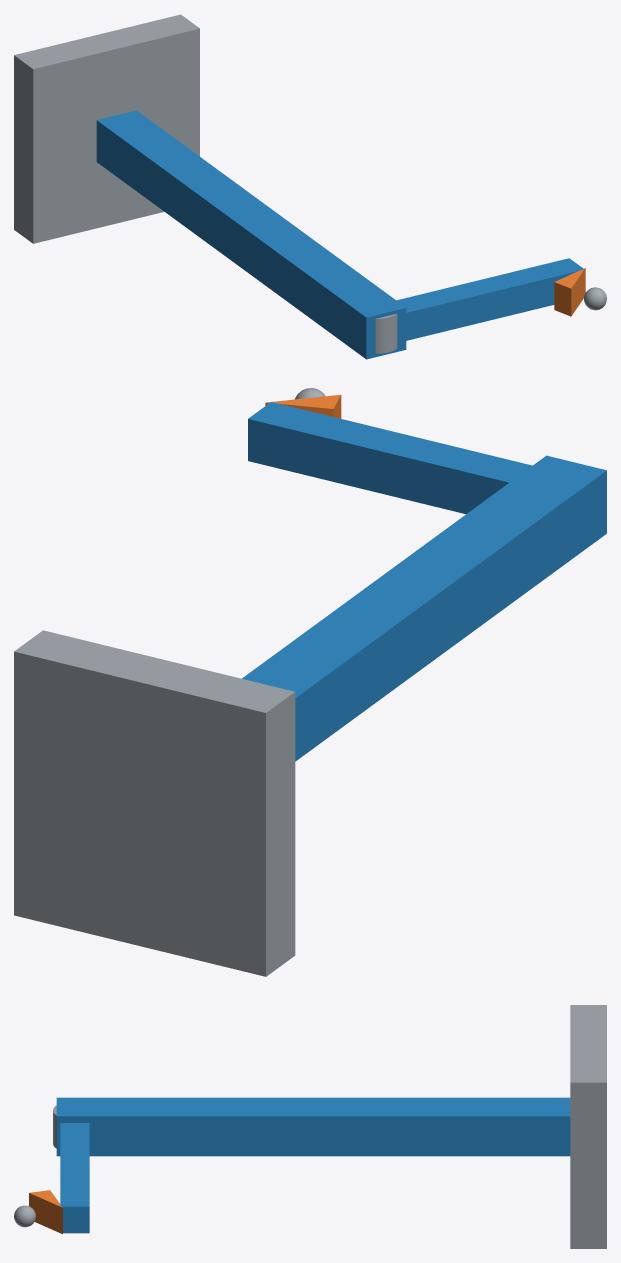
The model's file is lk-lift.glb.
The picture shows the model from 3 angles, top to bottom: view 1: azimuth 30°, elevation 25°; view 2: azimuth 150°, elevation 25°; view 3: azimuth 270°, elevation 25°; orthographic projection. The views are drawn at different scales.
Parts seen in each view (by area): view 1: base_link/visual-0, mast/visual-0, boom/visual-0, sensor/visual-0, boom/visual-1; view 2: base_link/visual-0, mast/visual-0, boom/visual-0, sensor/visual-0; view 3: mast/visual-0, base_link/visual-0, boom/visual-0, sensor/visual-0, sensor/visual-1.
Part boxes in pixels (x1,y1,x2,y2): base_link/visual-0: (14,14,199,243); mast/visual-0: (96,110,406,359); boom/visual-0: (396,258,584,340); sensor/visual-0: (554,268,585,316); boom/visual-1: (375,313,397,353); base_link/visual-0: (14,630,295,976); mast/visual-0: (242,455,606,761); boom/visual-0: (248,402,532,513); sensor/visual-0: (265,394,341,418); mast/visual-0: (56,1097,570,1156); base_link/visual-0: (570,1005,606,1248); boom/visual-0: (60,1123,89,1233); sensor/visual-0: (29,1190,62,1234); sensor/visual-1: (14,1205,35,1227).
Bounding box in the file's own units: 0.8573 × 0.5 × 1.62.
